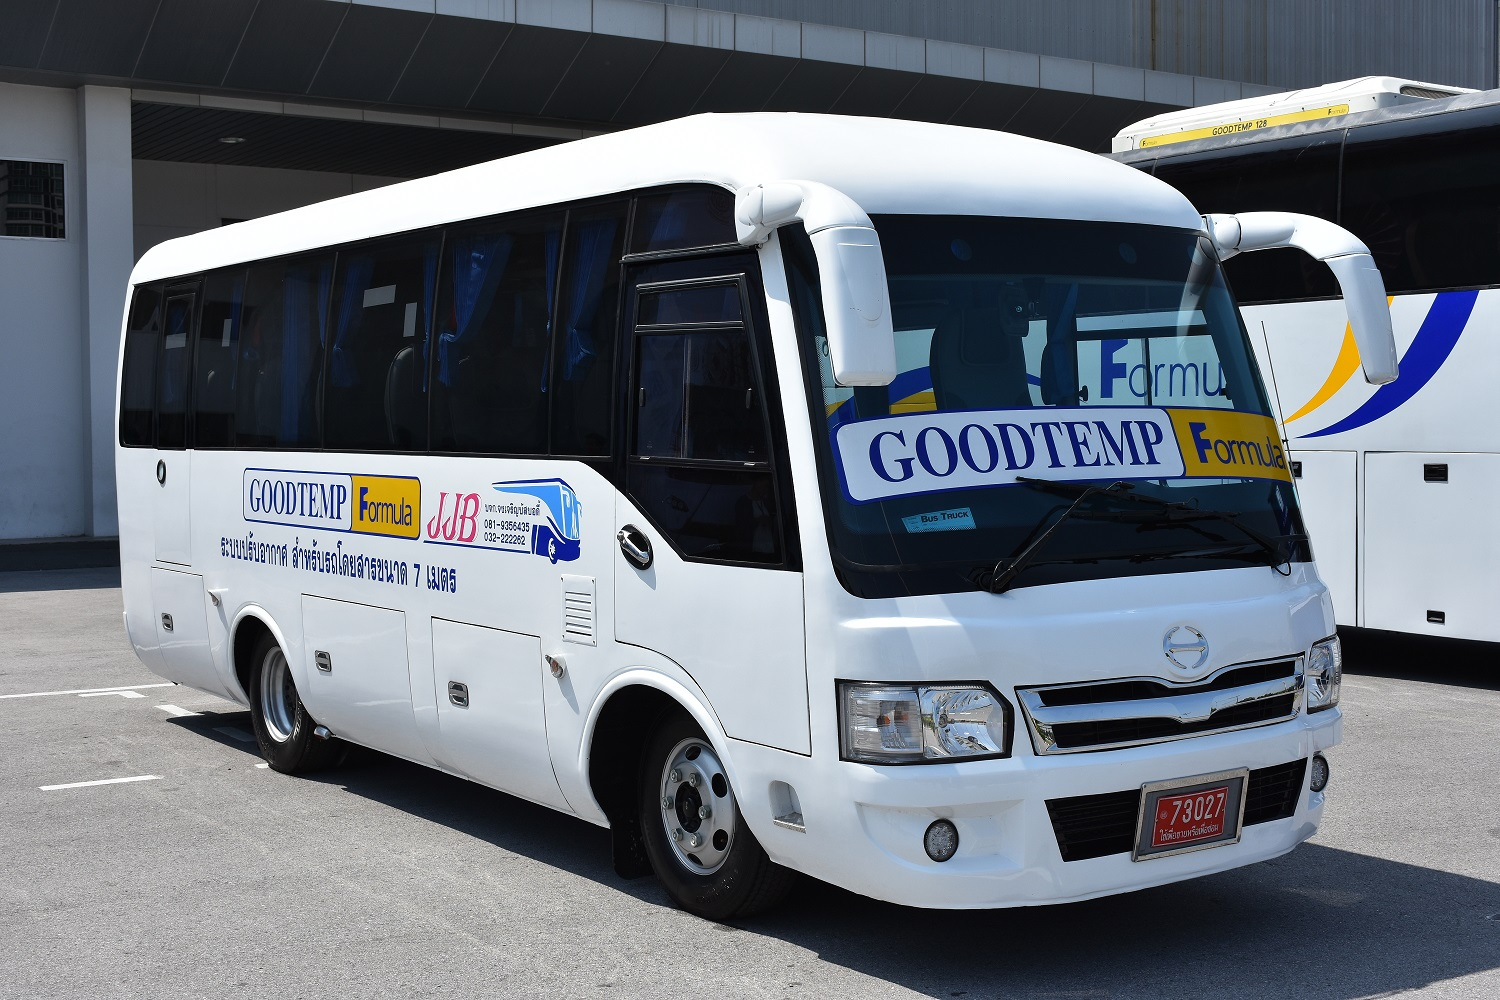bus: (107, 104, 1345, 921)
